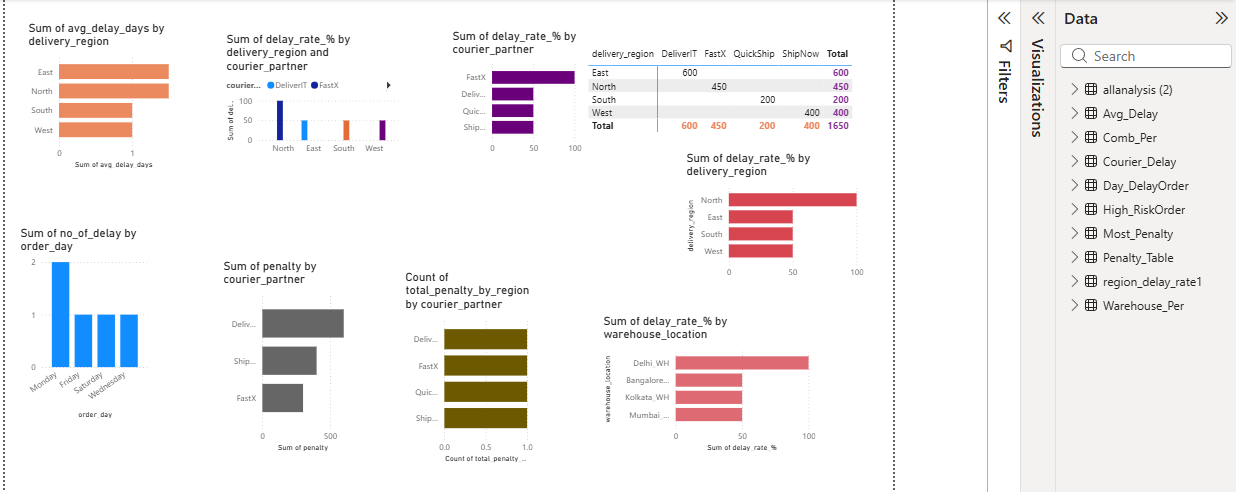

What the dashboard file says about the page in this screenshot:
{"tool":"powerbi","page":{"name":"Page 1","canvas":[1280,720],"ordinal":0},"visuals":[{"type":"clusteredBarChart","fields":{"Category":["Avg_Delay.delivery_region"],"Y":["Sum(Avg_Delay.avg_delay_days)"]},"box":[28.8,31.7,216,217.4],"z":0},{"type":"clusteredColumnChart","fields":{"Category":["Comb_Per.delivery_region"],"Series":["Comb_Per.courier_partner"],"Y":["Sum(Comb_Per.delay_rate_%)"]},"box":[313.9,47.5,257.8,185.8],"z":1000},{"type":"clusteredBarChart","fields":{"Category":["Courier_Delay.courier_partner"],"Y":["Sum(Courier_Delay.delay_rate_%)"]},"box":[639.4,43.2,195.8,190.1],"z":2000},{"type":"clusteredColumnChart","fields":{"Category":["Day_DelayOrder.order_day"],"Y":["Sum(Day_DelayOrder.no_of_delay)"]},"box":[16.8,327.6,193.2,282.2],"z":3000},{"type":"clusteredBarChart","fields":{"Category":["High_RiskOrder.courier_partner"],"Y":["Sum(High_RiskOrder.penalty)"]},"box":[309.1,374.6,193.2,282.2],"z":4000},{"type":"clusteredBarChart","fields":{"Category":["Most_Penalty.courier_partner"],"Y":["CountNonNull(Most_Penalty.total_penalty_by_region)"]},"box":[571.1,389.7,193.2,282.2],"z":5000},{"type":"pivotTable","fields":{"Rows":["Penalty_Table.delivery_region"],"Columns":["Penalty_Table.courier_partner"],"Values":["Sum(Penalty_Table.total_penalty_by_region)"]},"box":[835.2,63.4,406.1,155.5],"z":6000},{"type":"clusteredBarChart","fields":{"Category":["Warehouse_Per.warehouse_location"],"Y":["Sum(Warehouse_Per.delay_rate_%)"]},"box":[856.8,453.6,315.4,203],"z":7000},{"type":"clusteredBarChart","fields":{"Category":["region_delay_rate1.delivery_region"],"Y":["Sum(region_delay_rate1.delay_rate_%)"]},"box":[976.3,218.9,265,193],"z":8000}]}

Visuals, with their boxes on the page's 1280x720 design canvas (x1, y1, x2, y2). These are canvas units, not pixel positions in the 1236x492 screenshot, which may show the page scaled, cropped or inside an application window:
clusteredBarChart - Avg_Delay.delivery_region x Sum(Avg_Delay.avg_delay_days): rect(29, 32, 245, 249)
clusteredColumnChart - Comb_Per.delivery_region x Comb_Per.courier_partner: rect(314, 48, 572, 233)
clusteredBarChart - Courier_Delay.courier_partner x Sum(Courier_Delay.delay_rate_%): rect(639, 43, 835, 233)
clusteredColumnChart - Day_DelayOrder.order_day x Sum(Day_DelayOrder.no_of_delay): rect(17, 328, 210, 610)
clusteredBarChart - High_RiskOrder.courier_partner x Sum(High_RiskOrder.penalty): rect(309, 375, 502, 657)
clusteredBarChart - Most_Penalty.courier_partner x CountNonNull(Most_Penalty.total_penalty_by_region): rect(571, 390, 764, 672)
pivotTable - Penalty_Table.delivery_region x Penalty_Table.courier_partner: rect(835, 63, 1241, 219)
clusteredBarChart - Warehouse_Per.warehouse_location x Sum(Warehouse_Per.delay_rate_%): rect(857, 454, 1172, 657)
clusteredBarChart - region_delay_rate1.delivery_region x Sum(region_delay_rate1.delay_rate_%): rect(976, 219, 1241, 412)
